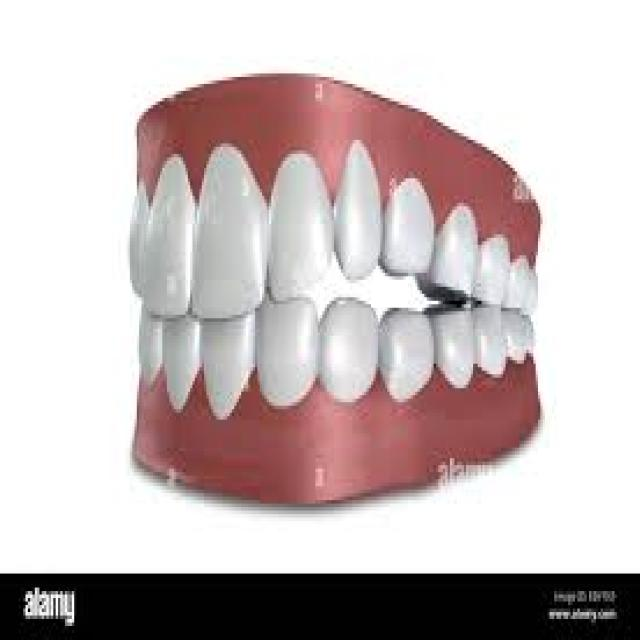tooth: (200, 144, 266, 312), (274, 157, 332, 287), (257, 297, 318, 416), (381, 297, 438, 409), (202, 304, 255, 420), (336, 147, 383, 276), (153, 168, 193, 318), (325, 286, 373, 398), (389, 172, 434, 290), (438, 203, 476, 301), (128, 294, 164, 381), (440, 308, 476, 395), (165, 307, 197, 398), (480, 231, 510, 304), (132, 185, 151, 298), (480, 304, 508, 378), (515, 252, 540, 311), (512, 315, 536, 360)
